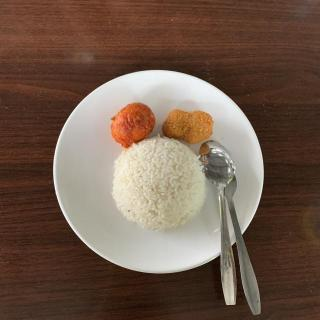Nasi: (114, 136, 207, 232)
